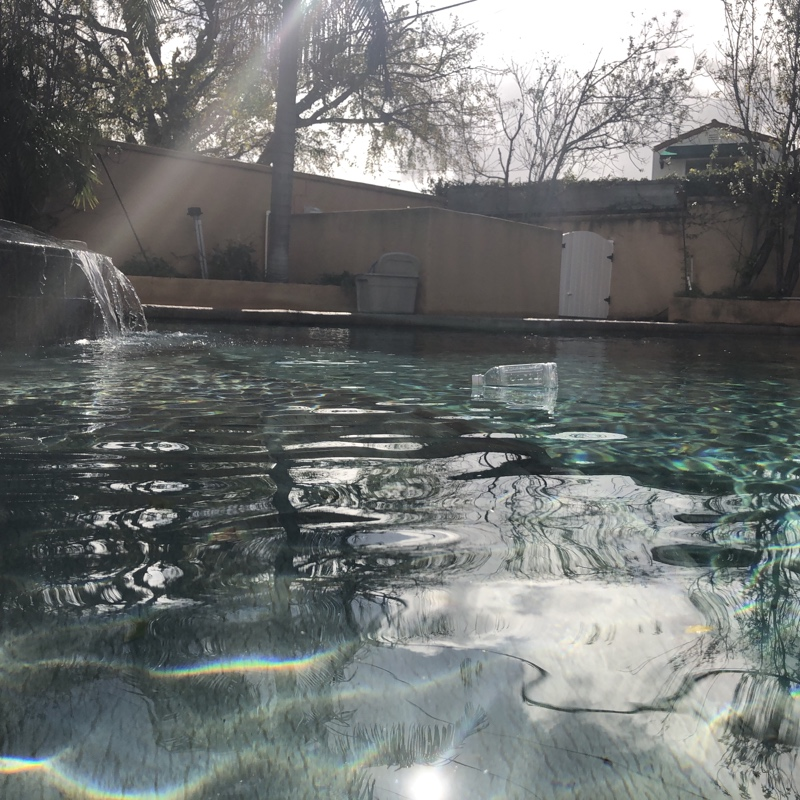Plastic Bottle: (466, 356, 562, 393)
